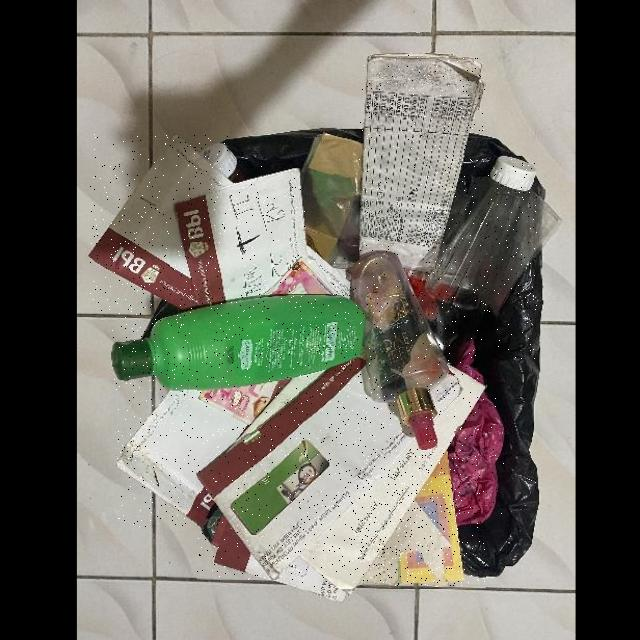glass: (419, 155, 537, 365)
paper: (198, 356, 416, 580), (300, 364, 486, 589), (359, 52, 485, 273), (90, 134, 234, 310), (117, 381, 279, 526), (170, 166, 306, 307), (360, 449, 465, 585), (265, 241, 352, 299)
plastic: (111, 294, 366, 390), (351, 250, 450, 448), (448, 390, 505, 526)
